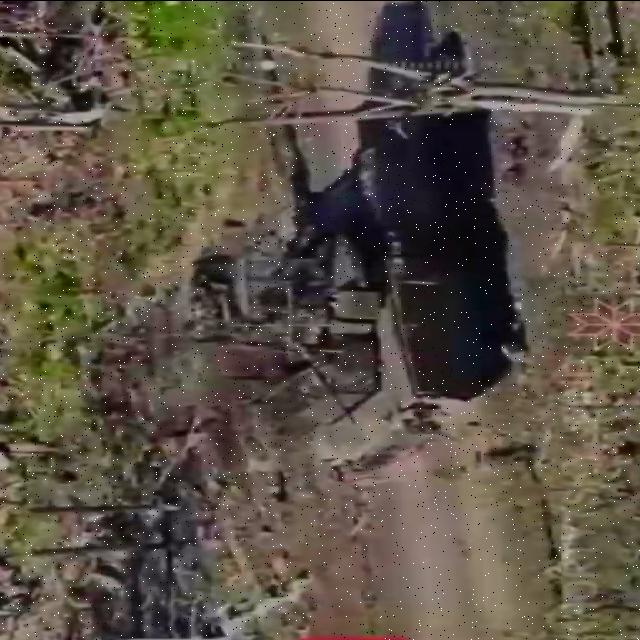TANK: (175, 32, 506, 480)
